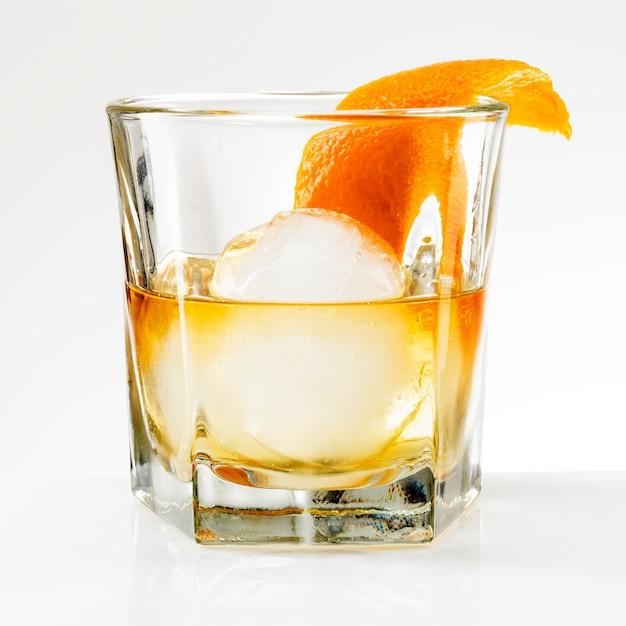alcohol: (100, 58, 512, 545)
